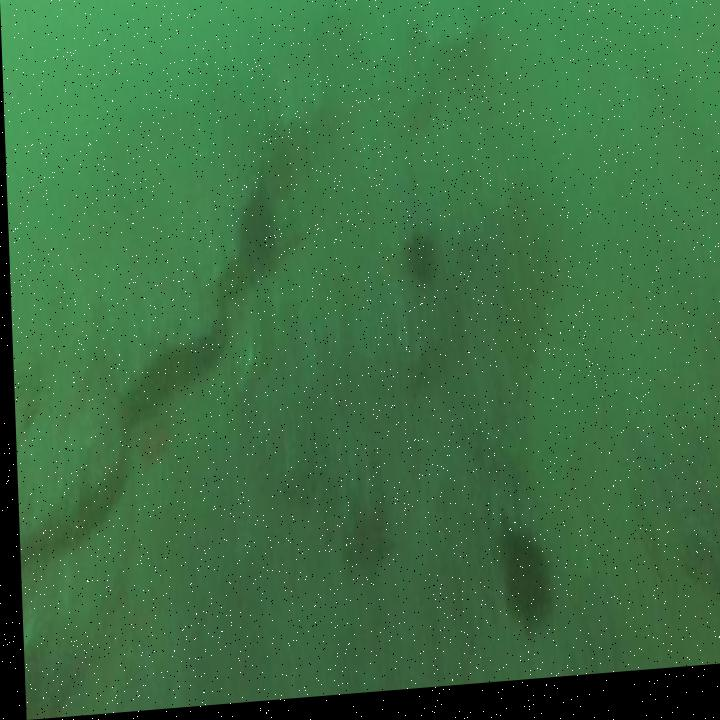echinus: (498, 539, 544, 640), (235, 202, 274, 284), (406, 239, 432, 291)
starfish: (338, 492, 390, 588)
